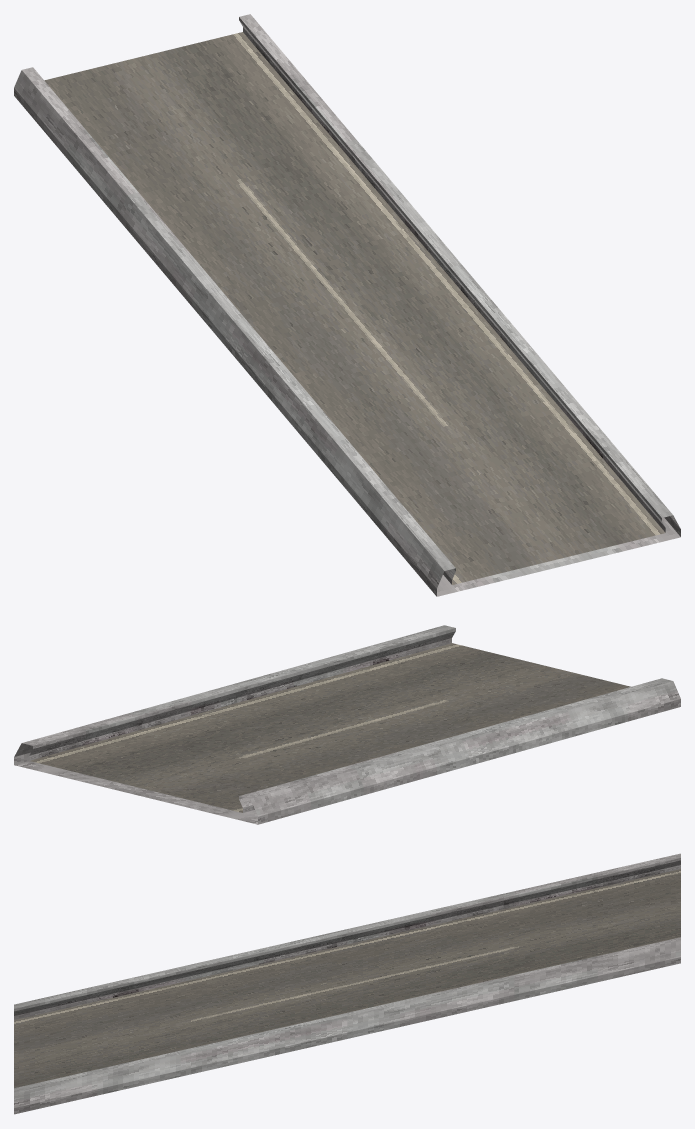
The model's file is road-Straight-BiSlopeUp-BiSlopeUp-Up3-Center-Size3.glb.
The picture shows the model from 3 angles, top to bottom: view 1: azimuth 30°, elevation 25°; view 2: azimuth 150°, elevation 25°; view 3: azimuth 270°, elevation 25°; orthographic projection. The views are drawn at different scales.
Visible parts, largest first — view 1: road-Straight-BiSlopeUp-BiSlopeUp-Up3-Center-Size3; view 2: road-Straight-BiSlopeUp-BiSlopeUp-Up3-Center-Size3; view 3: road-Straight-BiSlopeUp-BiSlopeUp-Up3-Center-Size3.
Part boxes in pixels (x1,y1,x2,y2): road-Straight-BiSlopeUp-BiSlopeUp-Up3-Center-Size3: (14,14,680,596); road-Straight-BiSlopeUp-BiSlopeUp-Up3-Center-Size3: (14,625,680,824); road-Straight-BiSlopeUp-BiSlopeUp-Up3-Center-Size3: (14,853,680,1114).
Size of the model in its own units: 1 by 0.8438 by 3.
2 materials, 2 textured.
